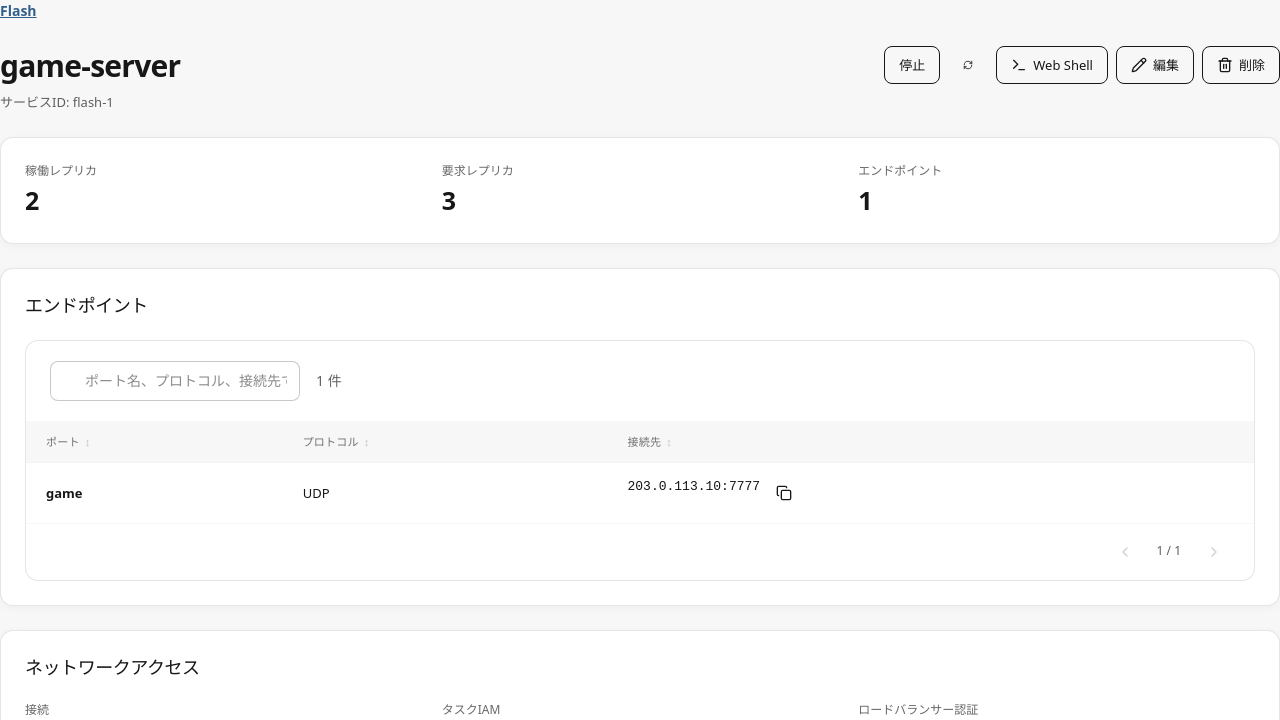
Scenario: FlashServiceDetailPage › 状態、レプリカ、UDPエンドポイントを表示して編集を開く
Expected: the heading "game-server" is shown, [0, 46, 180, 86]
Expected: the text "203.0.113.10:7777" is shown, [628, 479, 760, 494]
Step 1. Click the button "編集" → point(1155, 65), box [1116, 46, 1194, 84]
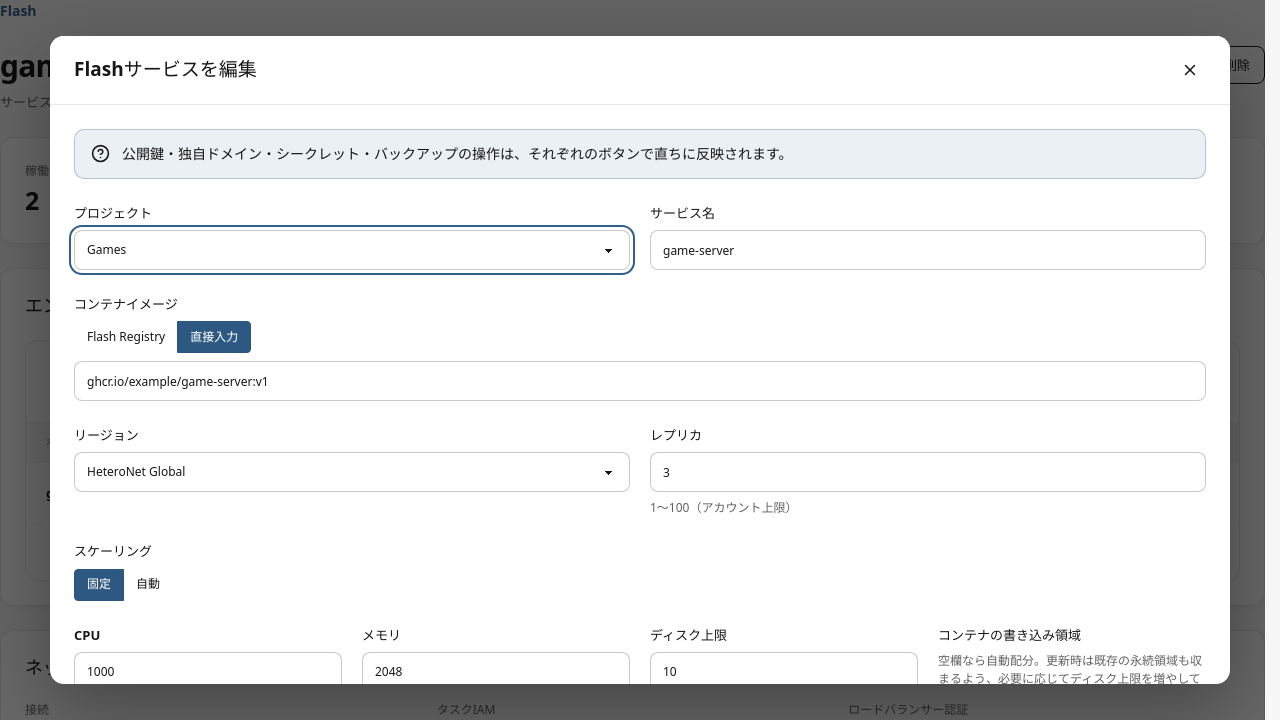
Result: the field showing "ghcr.io/example/game-server:v1" is shown at [74, 361, 1206, 401]
